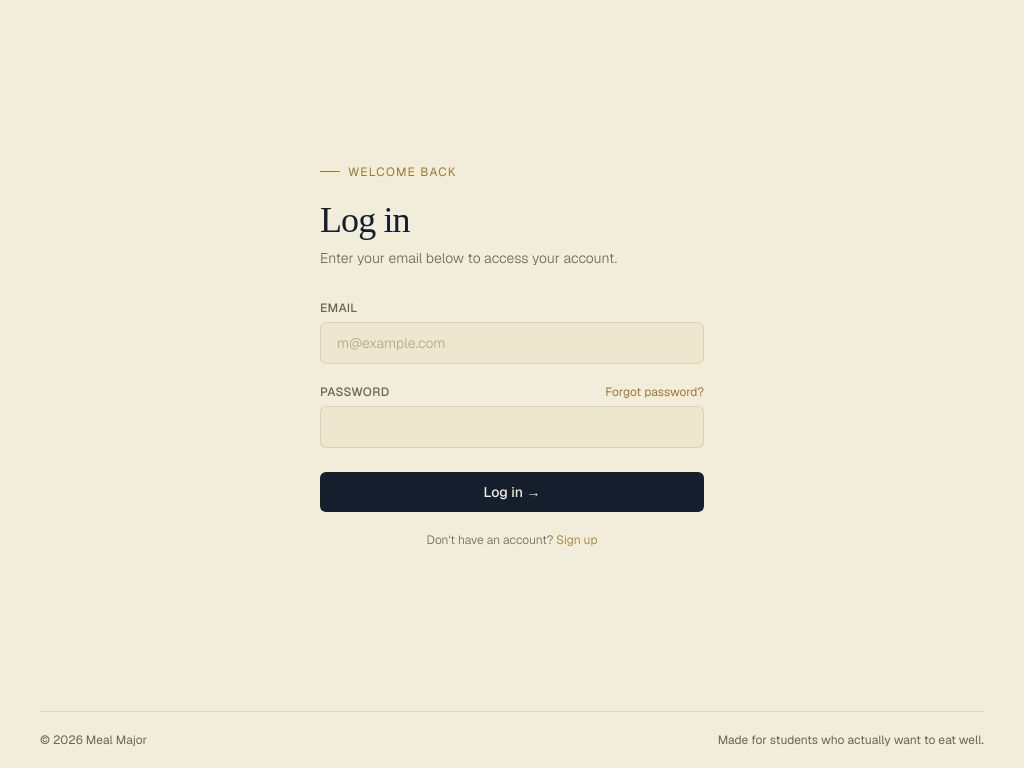
Scenario: LoginForm › displays error message on failed login
Type "wrong@example.com" into the field labelled "Email" at point(512, 342), box [320,322,704,364]
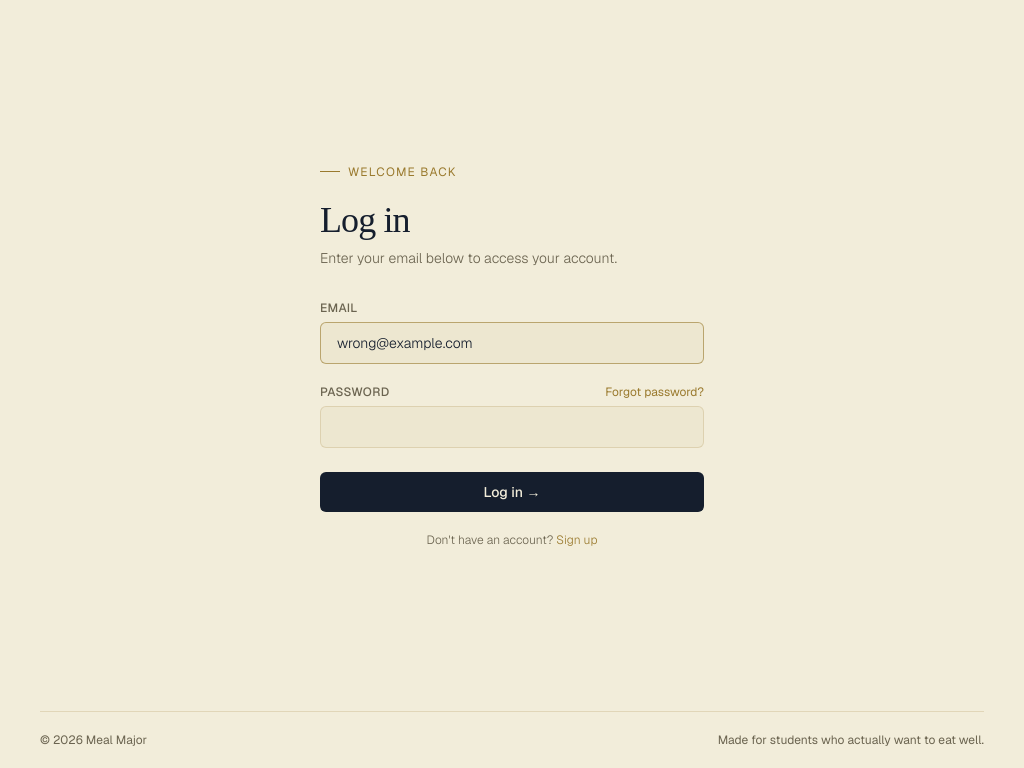
Type "wrongpass" into the password field labelled "Password" at point(512, 426), box [320,406,704,448]
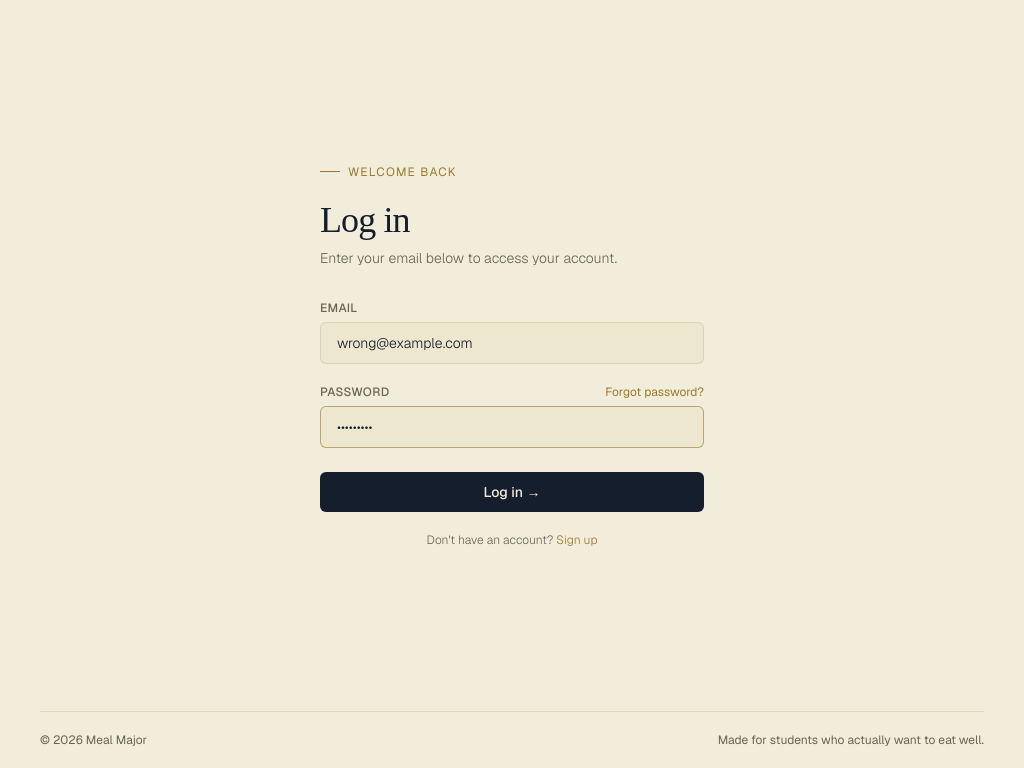
Click the button "Log in →" at point(512, 492), box [320,472,704,512]
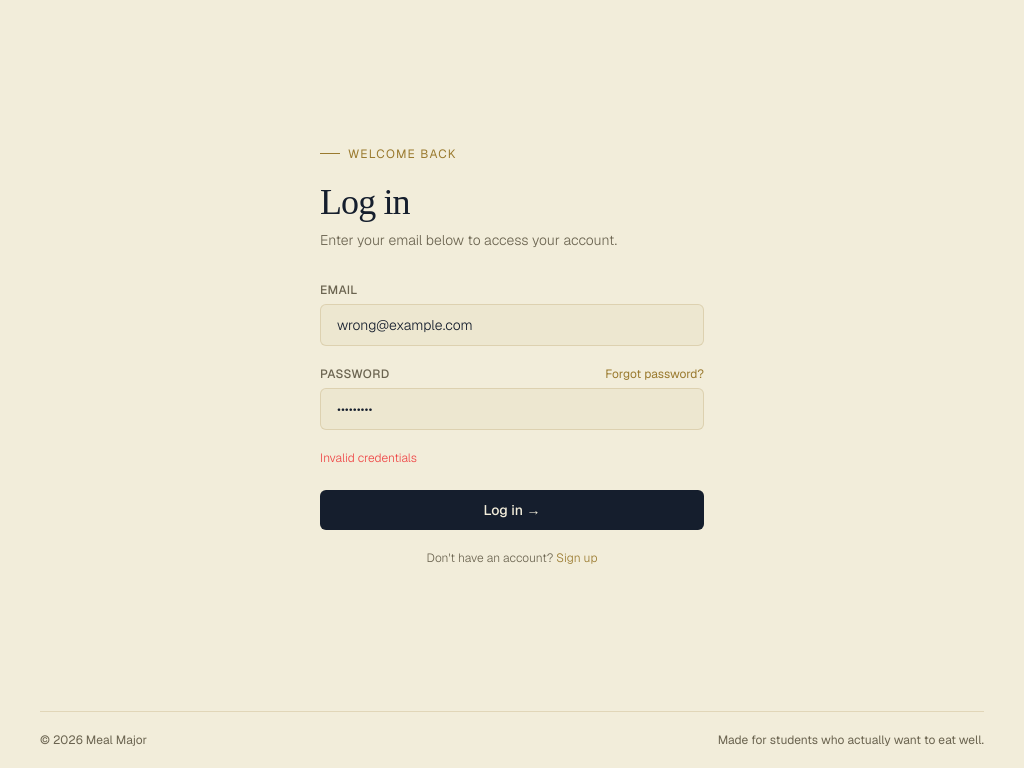
Now the text "Invalid credentials" is shown, box [320,450,417,466]
